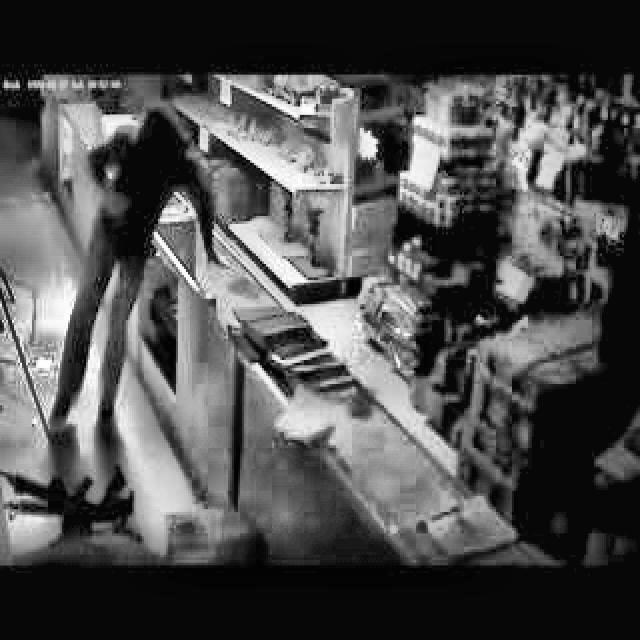burglary: (43, 101, 229, 442), (0, 461, 156, 553)
